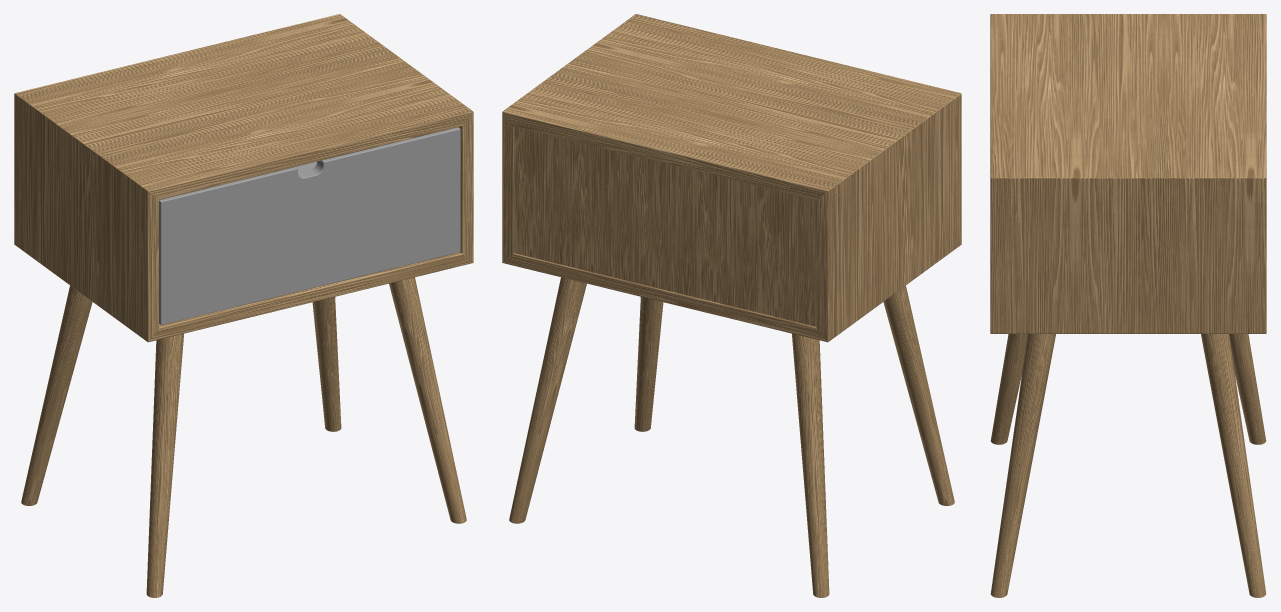
The model's file is drawer-hi.glb.
The picture shows the model from 3 angles, left to right: view 1: azimuth 30°, elevation 25°; view 2: azimuth 150°, elevation 25°; view 3: azimuth 270°, elevation 25°; orthographic projection. The views are drawn at different scales.
Parts seen in each view (by area): view 1: frame.001, drawer.001, legs.001; view 2: frame.001, back.001, legs.001; view 3: frame.001, legs.001.
Part boxes in pixels (<box>): frame.001: <box>14,14,473,342</box>; drawer.001: <box>159,127,460,324</box>; legs.001: <box>21,277,466,597</box>; frame.001: <box>502,14,961,342</box>; back.001: <box>514,126,816,326</box>; legs.001: <box>509,277,954,597</box>; frame.001: <box>990,14,1266,333</box>; legs.001: <box>990,334,1266,597</box>.
Bounding box in the file's own units: 0.45 × 0.54 × 0.32.
2 materials, 1 textured.
